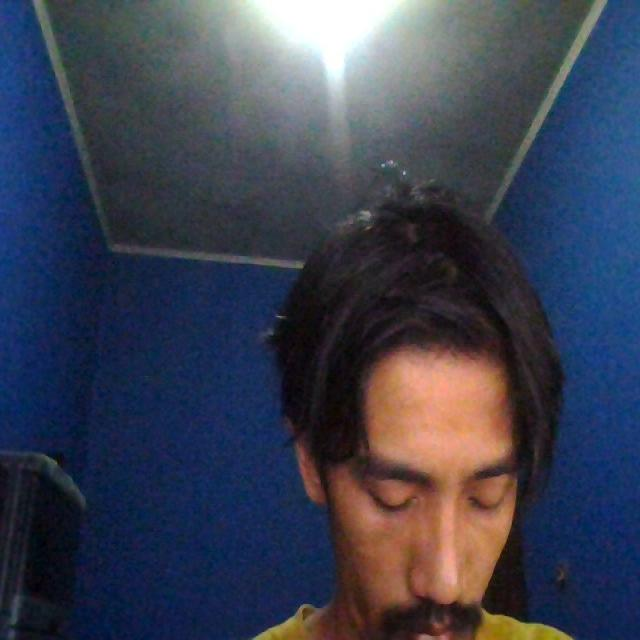Melihat Kebawah: (232, 176, 578, 640)
